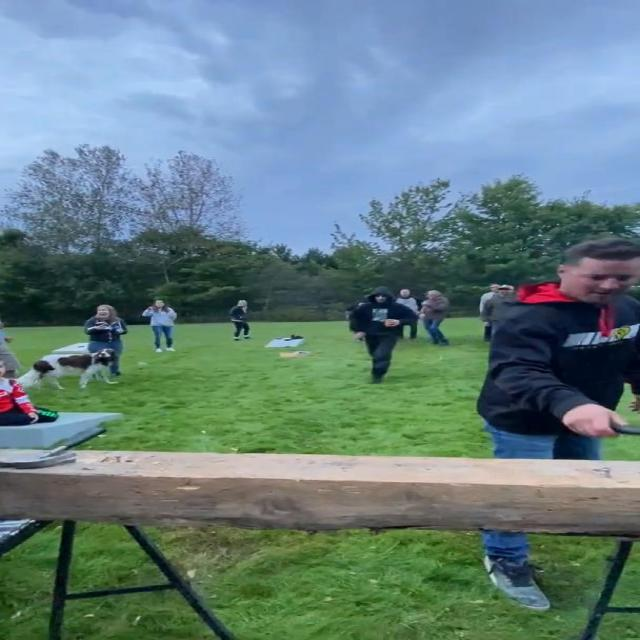hammer: (2, 420, 110, 470)
